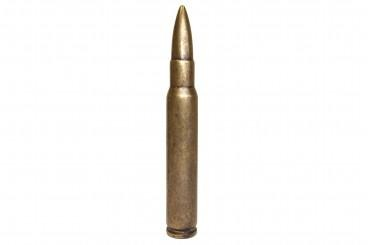bullet: (162, 3, 201, 242)
